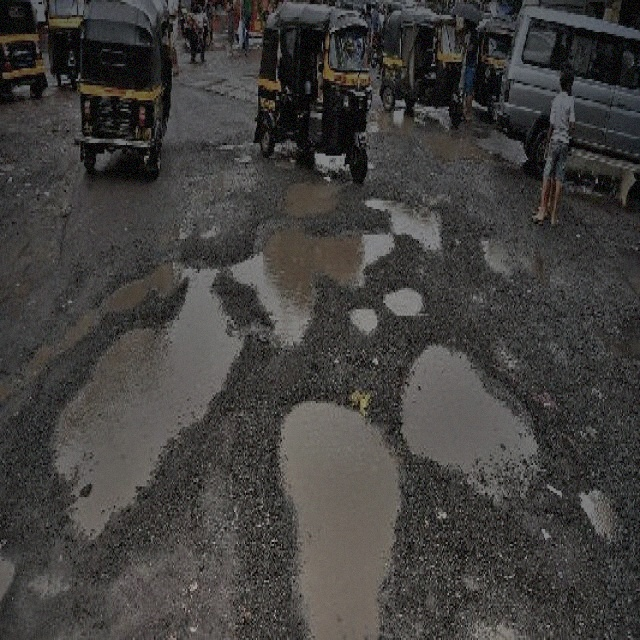pothole: (43, 243, 243, 540), (274, 392, 398, 638), (399, 337, 540, 499), (226, 218, 401, 346), (363, 190, 444, 252), (280, 175, 342, 220), (578, 480, 623, 540), (383, 279, 426, 316), (346, 303, 378, 331)
